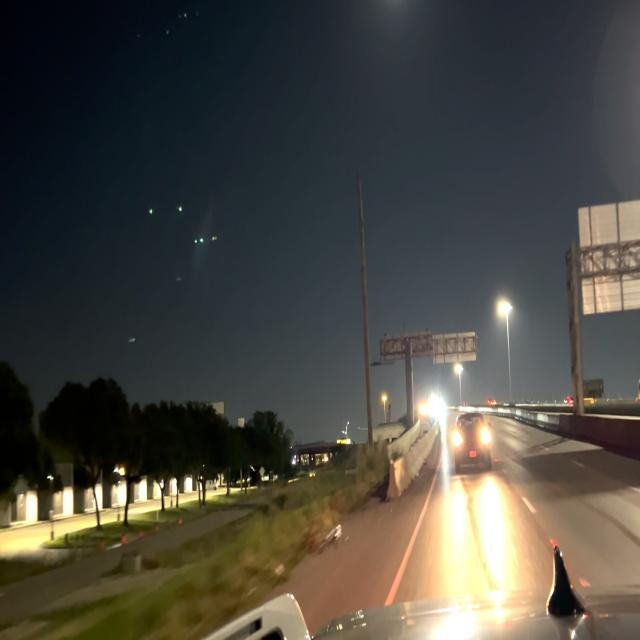back-of-sign: (577, 198, 640, 321), (429, 329, 479, 367)
